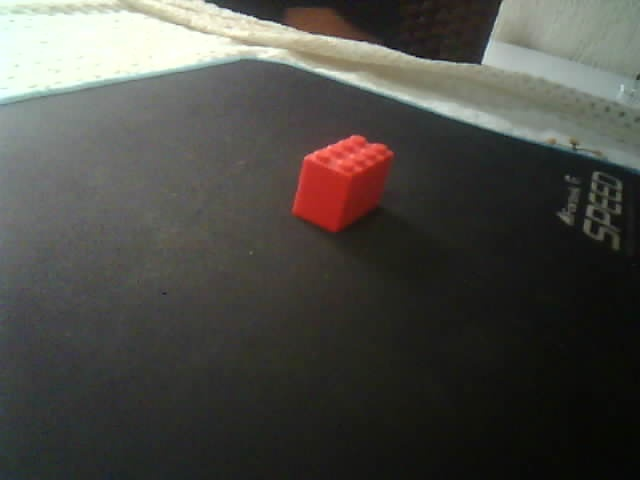lego: (290, 133, 394, 233)
